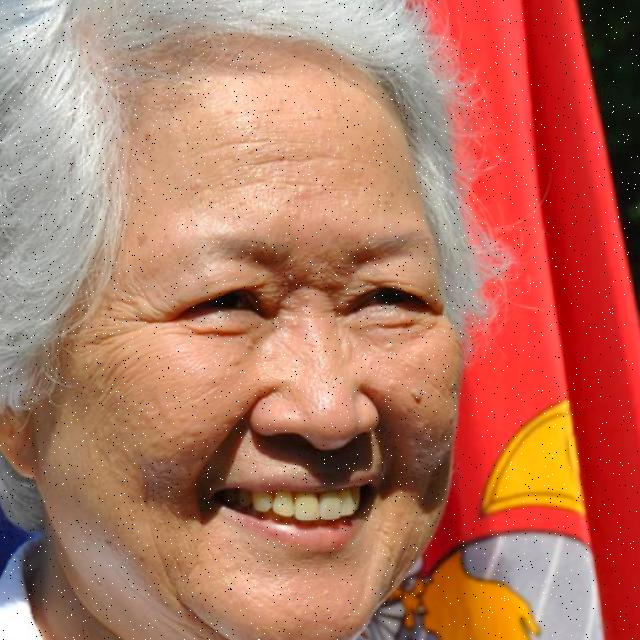puffy_eyes: (345, 316, 437, 341), (177, 317, 259, 340)
